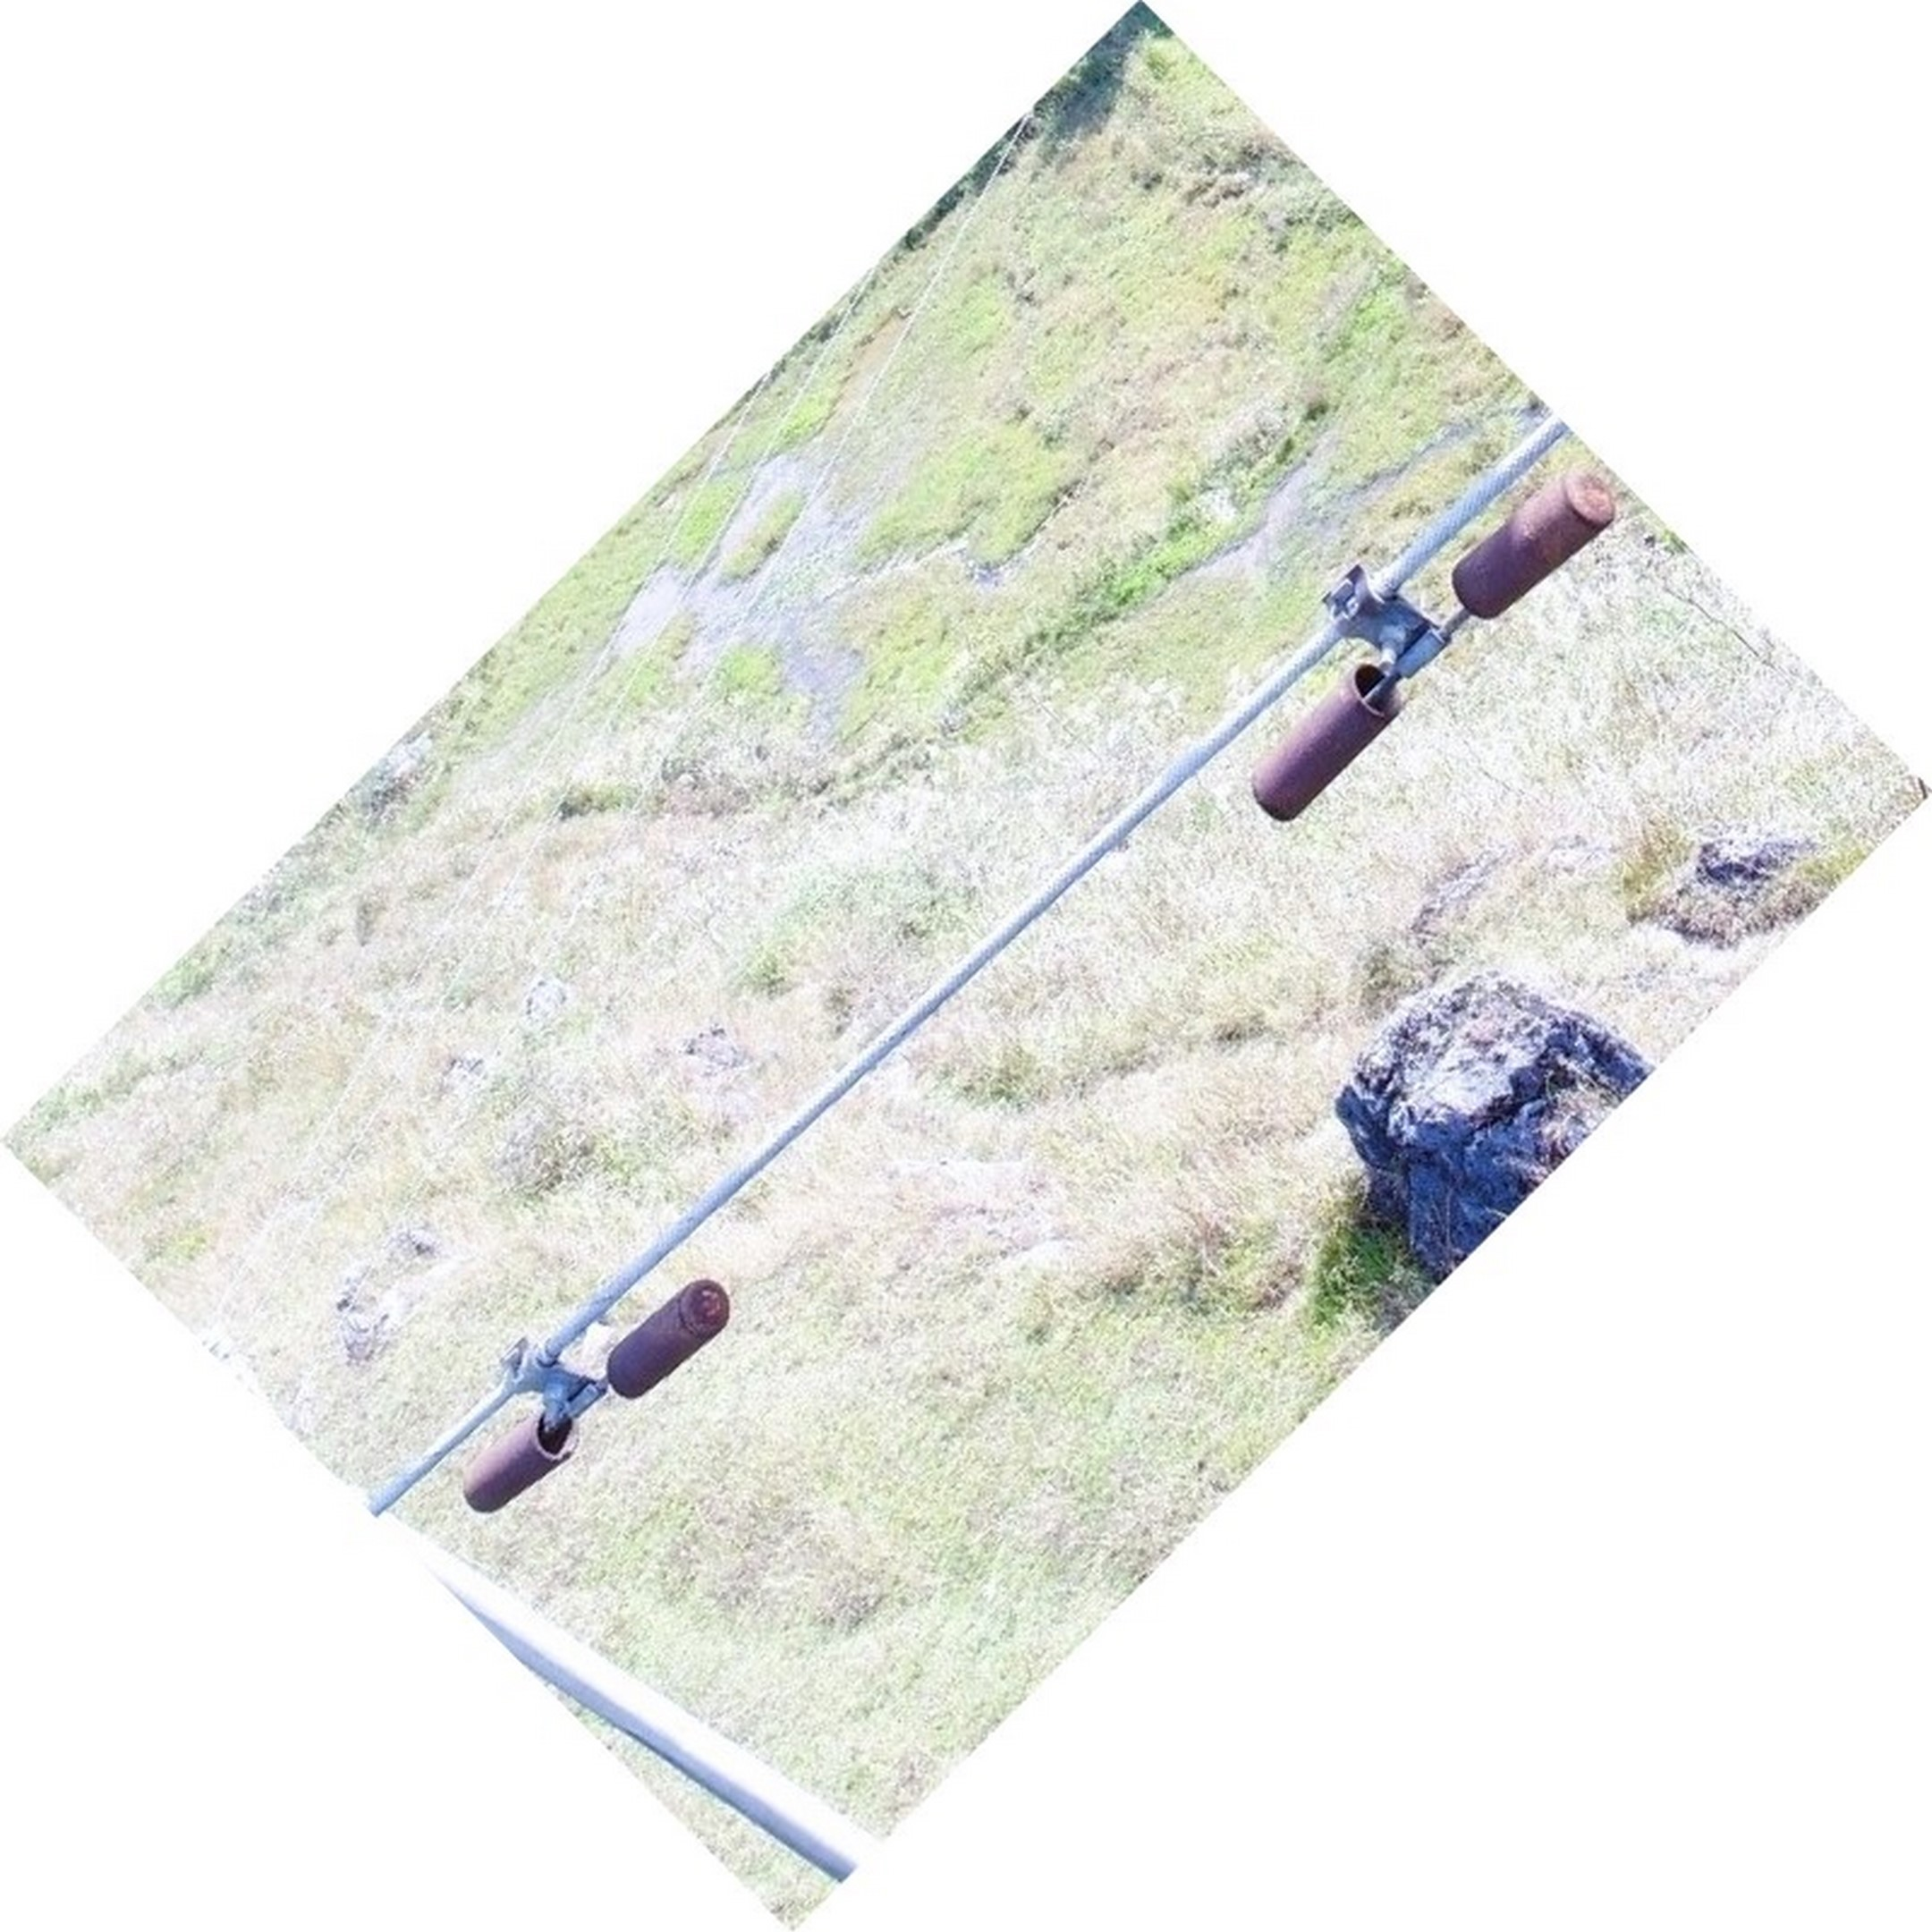Shockproof hammer: (1230, 458, 1628, 824), (433, 1235, 752, 1534)
